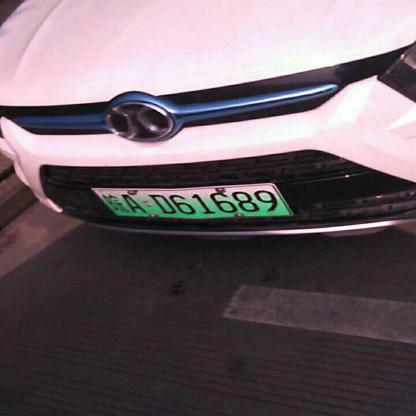lp: (93, 185, 291, 215)
